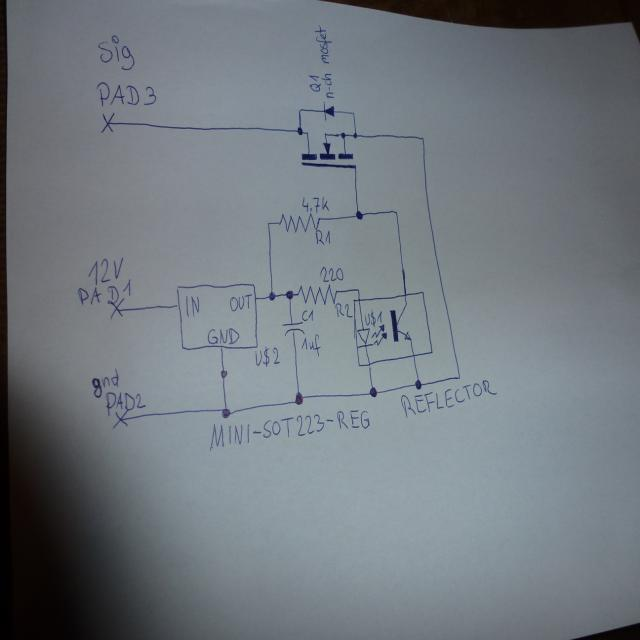capacitor: (282, 320, 303, 336)
diode: (323, 101, 335, 120)
junction: (293, 390, 306, 406), (220, 404, 231, 419), (284, 287, 295, 301), (368, 385, 378, 399), (354, 208, 364, 221), (266, 288, 276, 301), (413, 377, 422, 389), (418, 132, 426, 143), (296, 125, 303, 136), (454, 371, 461, 379), (265, 220, 271, 227), (392, 208, 398, 215), (352, 131, 357, 139), (350, 109, 355, 115), (355, 286, 360, 292), (297, 106, 301, 113)
resistor: (294, 282, 341, 307), (278, 211, 322, 234)
terminal: (108, 295, 126, 319), (111, 409, 130, 430), (100, 111, 114, 133)
text: (212, 407, 372, 448), (398, 377, 498, 421), (98, 78, 158, 109), (314, 22, 335, 100), (76, 277, 132, 306), (104, 387, 146, 417), (86, 254, 125, 286), (97, 40, 136, 71), (91, 368, 120, 397), (207, 324, 240, 346), (256, 345, 280, 368), (301, 194, 329, 213), (318, 264, 343, 284), (300, 332, 320, 355), (227, 292, 251, 311), (184, 293, 200, 317), (332, 301, 352, 319), (363, 309, 382, 327), (314, 227, 332, 246), (306, 72, 321, 91), (300, 308, 314, 324)
transistor: (299, 127, 358, 170)
